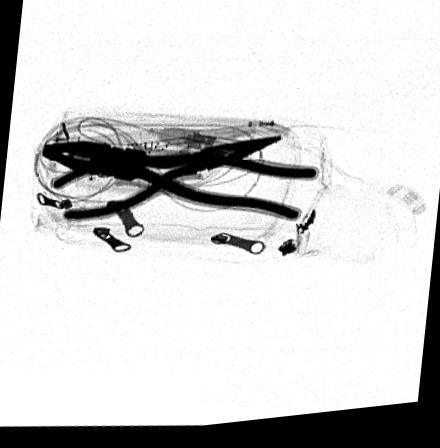Pliers: (36, 138, 322, 228), (47, 138, 286, 225)
